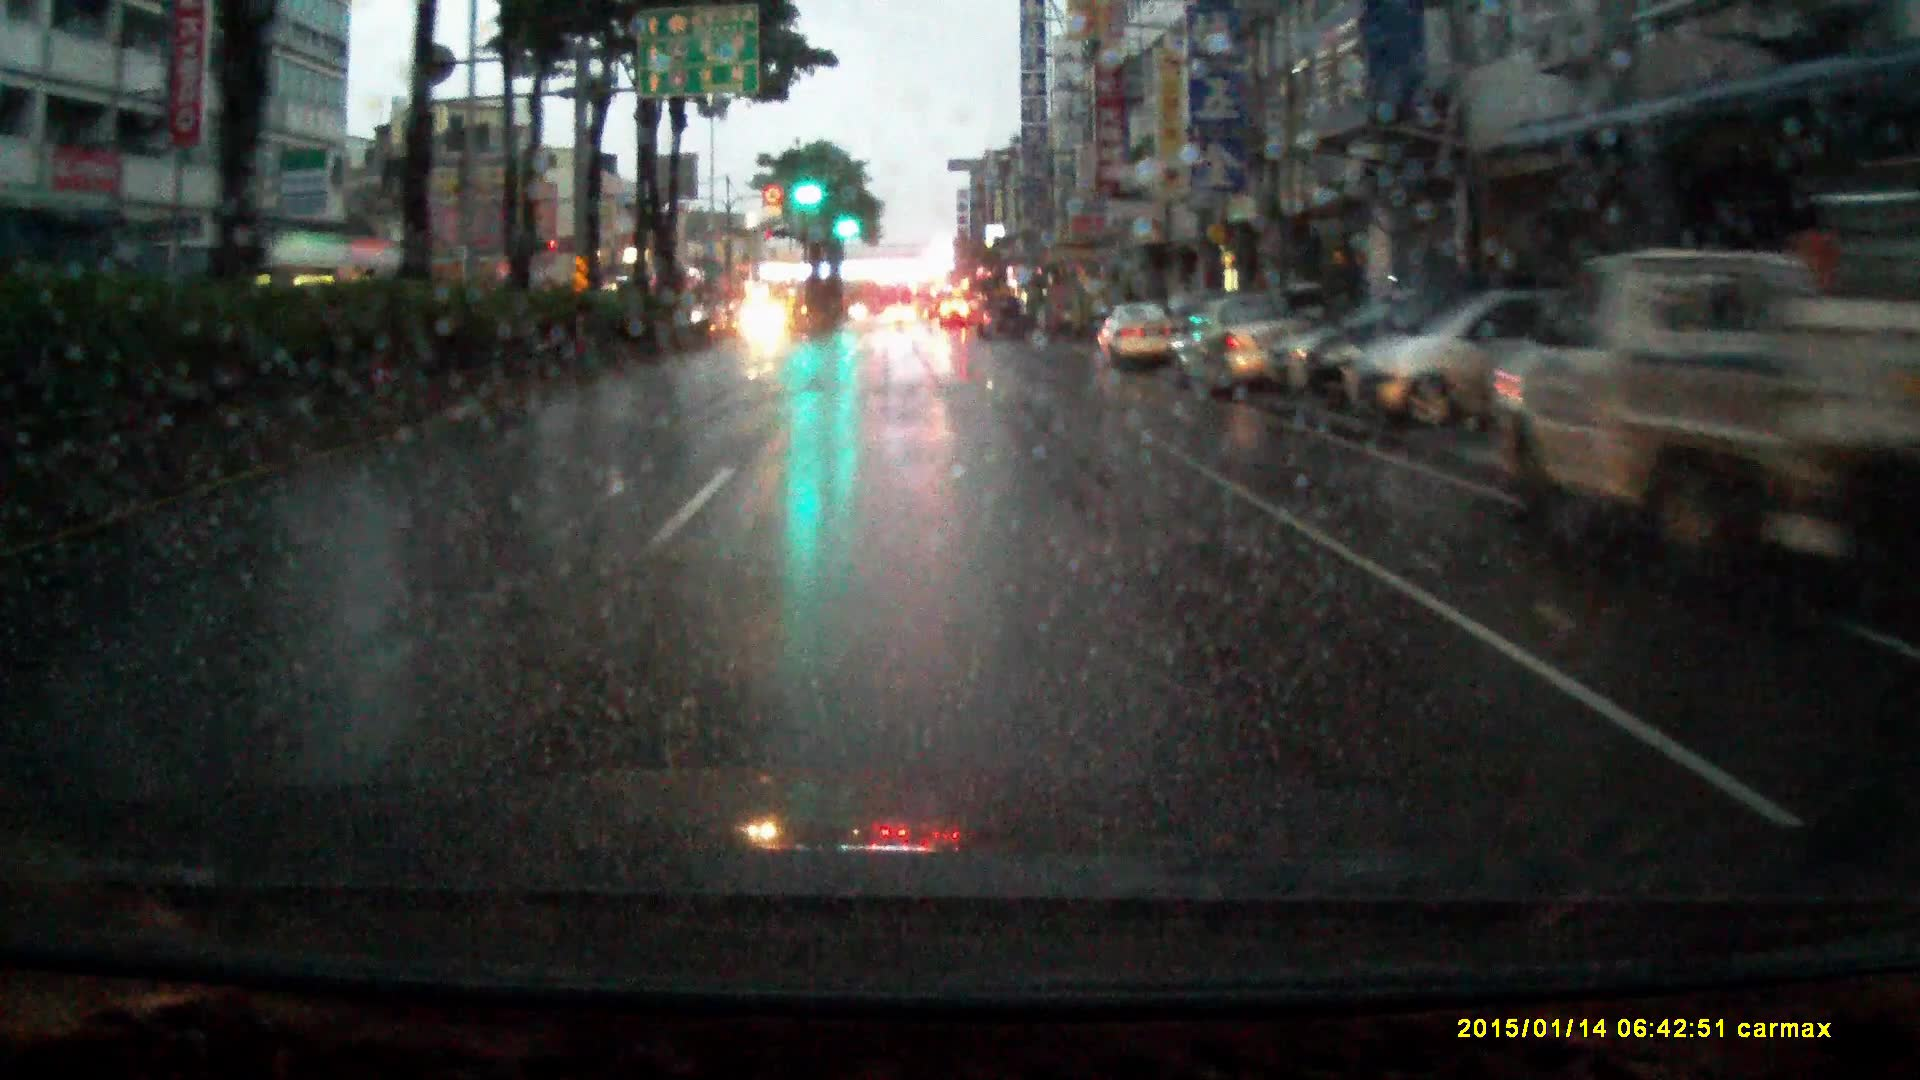vehicle: (1484, 248, 1920, 612), (1348, 287, 1600, 433), (1164, 297, 1328, 413), (1098, 305, 1175, 375), (975, 297, 1029, 342), (738, 301, 793, 345), (939, 301, 973, 332), (914, 284, 940, 319), (886, 305, 916, 324)
